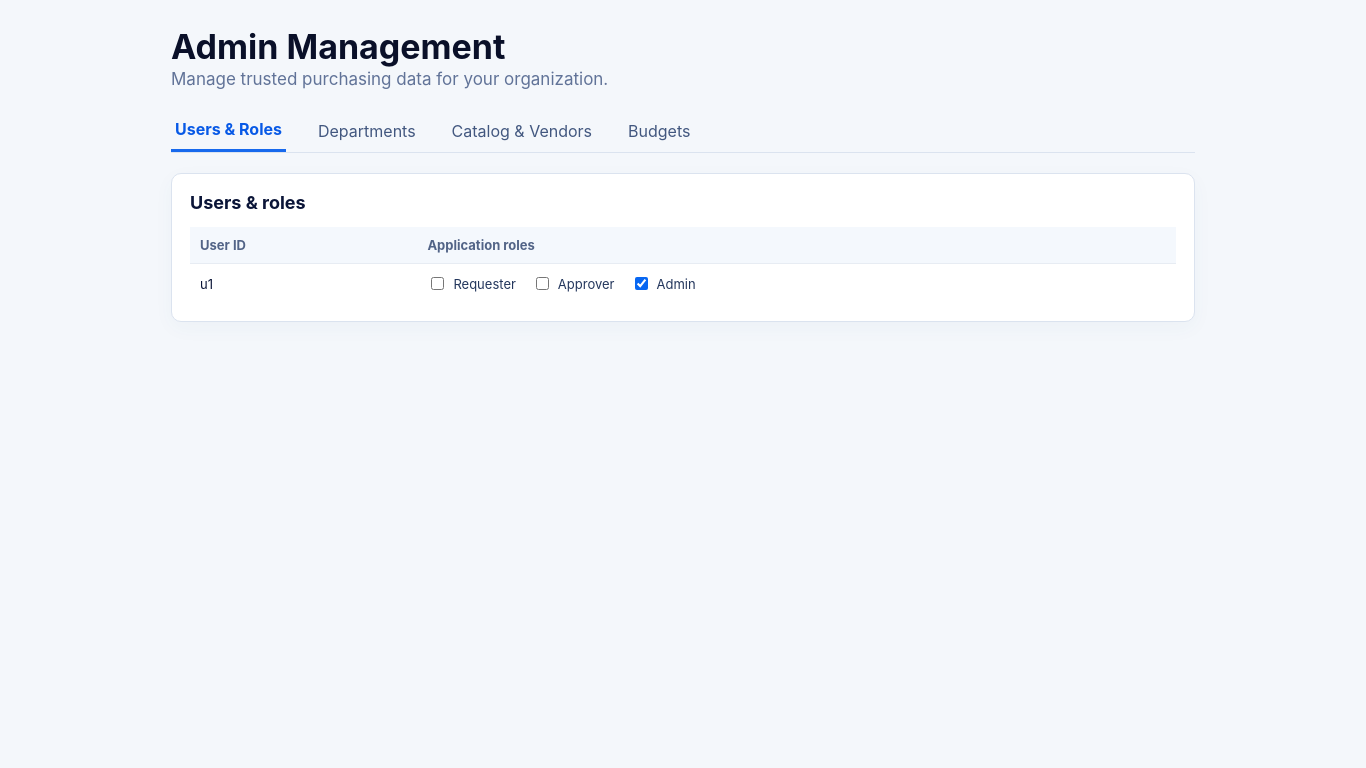
Scenario: AdminManagement › renders trusted administration data
Expected: the heading "Users & roles" is shown, [190, 192, 306, 213]
Expected: the checkbox labelled "Admin" is checked, [634, 277, 648, 290]
Click the tab "Departments" at {"x": 367, "y": 131}, box [314, 109, 420, 152]
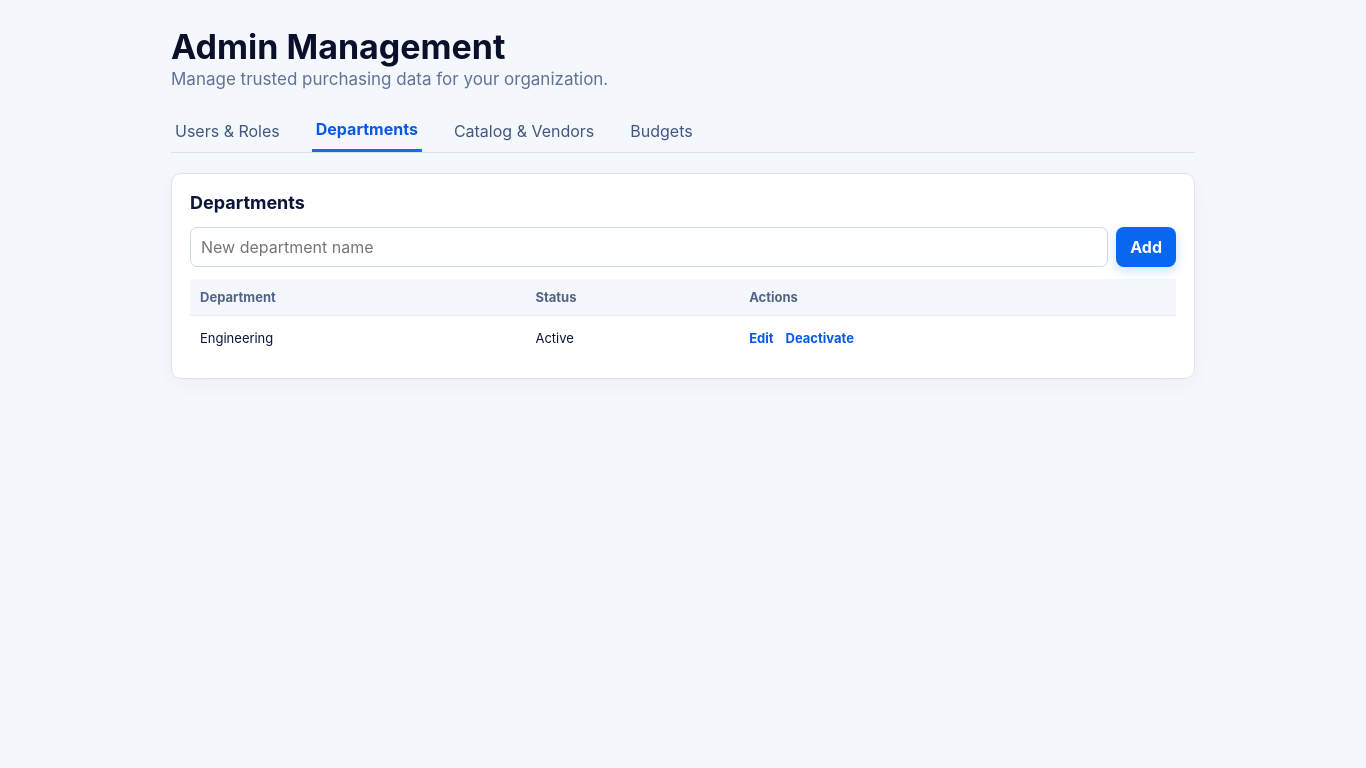
Result: the text "Engineering" is shown at [190, 316, 525, 360]
Click the tab "Catalog & Vendors" at {"x": 524, "y": 131}, box [450, 109, 598, 152]
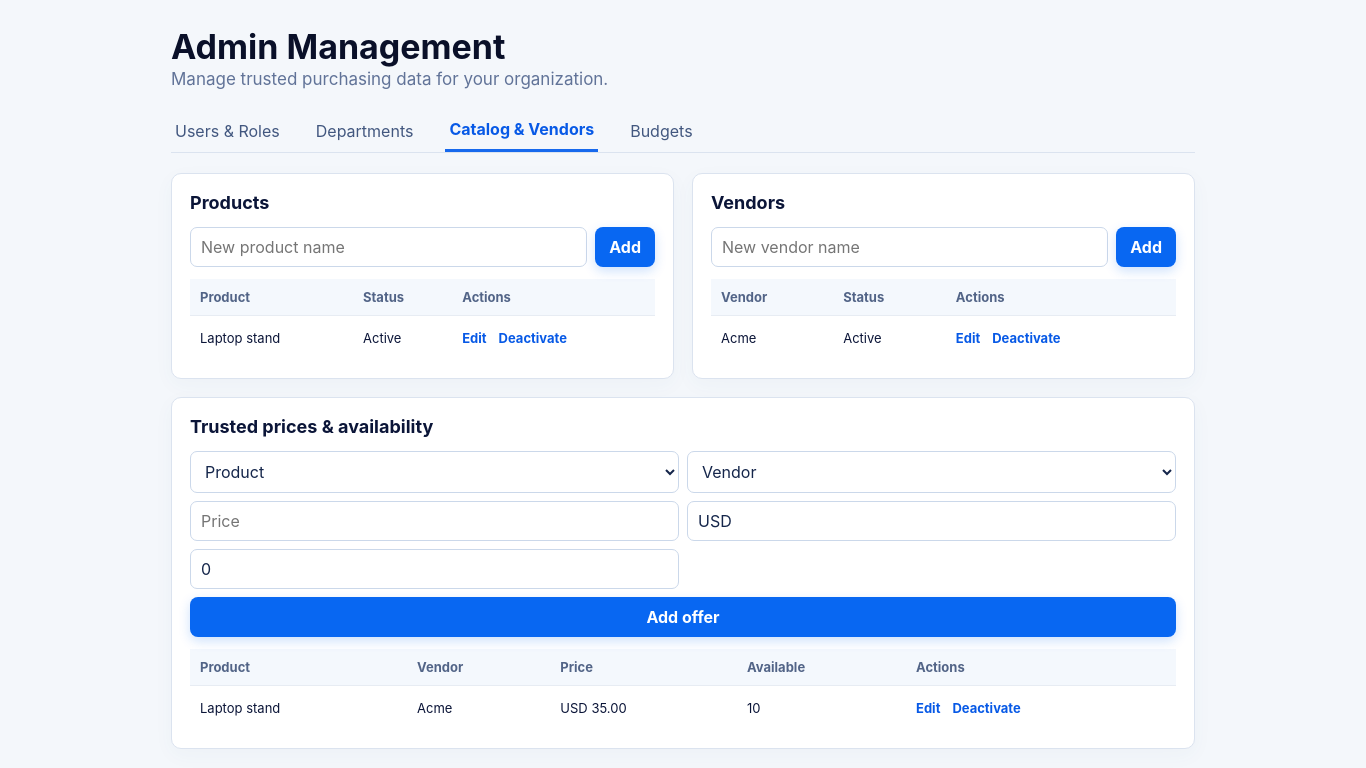
Result: the text "Laptop stand" below "Products" is shown at [200, 330, 280, 346]
Result: the 1st text "Acme" is shown at [711, 316, 833, 360]
Result: the text "USD 35.00" is shown at [550, 686, 737, 730]
